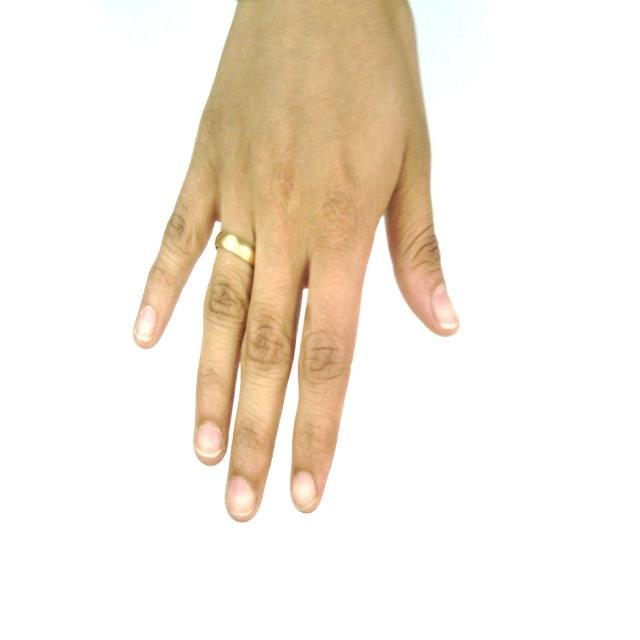Fingernail: (433, 286, 458, 330), (229, 477, 255, 515), (293, 471, 316, 508), (197, 423, 222, 457), (135, 308, 155, 340)
